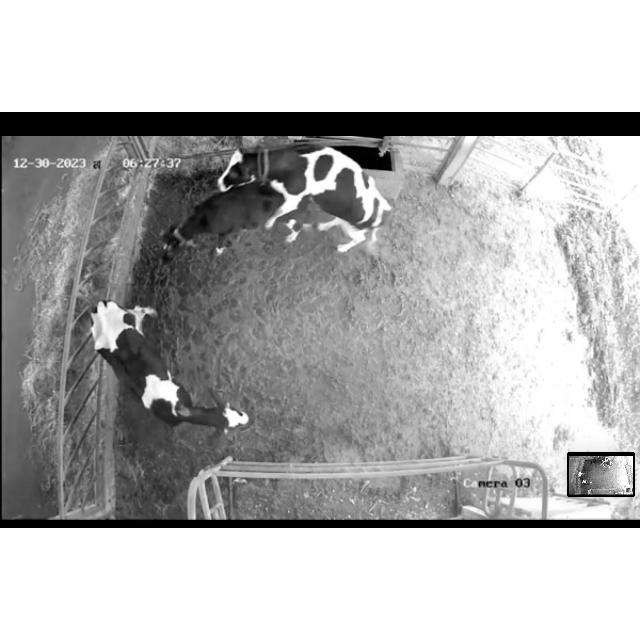ride: (216, 137, 397, 261)
